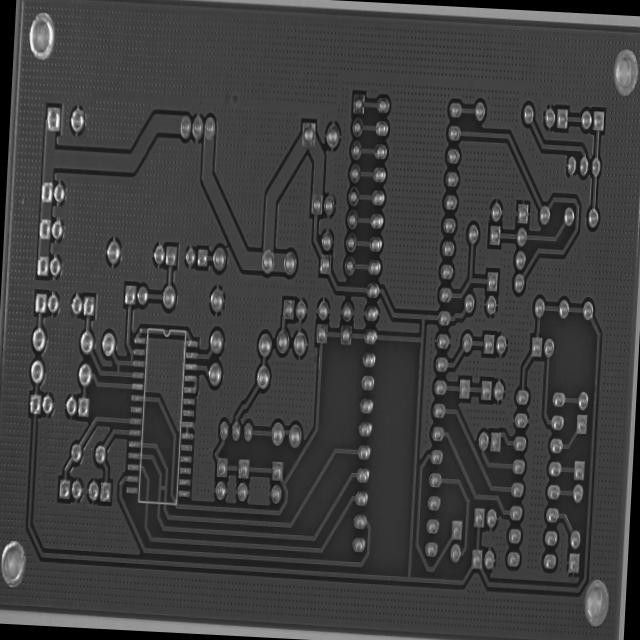short: (110, 358, 124, 380), (156, 476, 168, 500), (128, 346, 136, 366)
